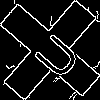U: (25, 25, 83, 83)
